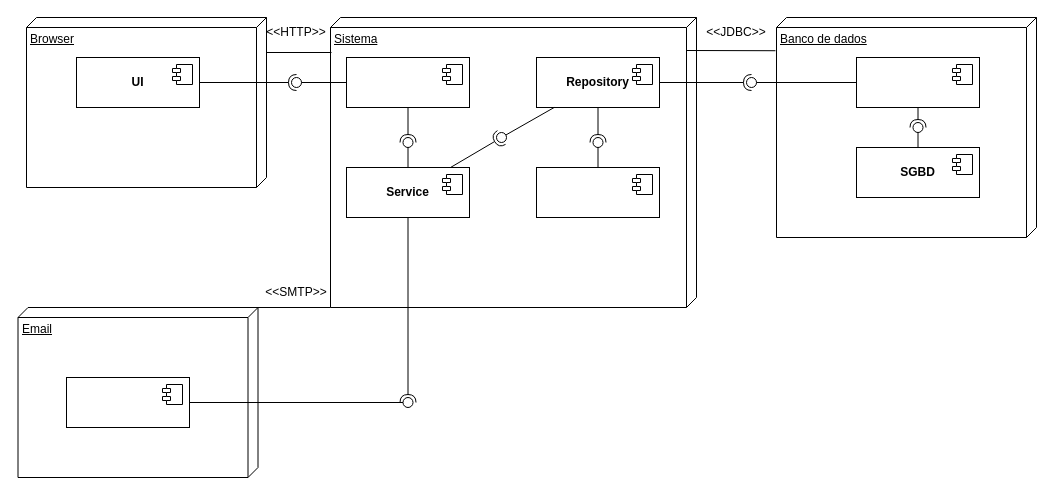
This 1054x495 diagram has some shape labels left out. Each missing label, with the centre of its shape:
"Controller" goes at (408,82).
"Gmail Api" goes at (128,402).
"Models" goes at (598,192).
"Persistência" goes at (918,82).
